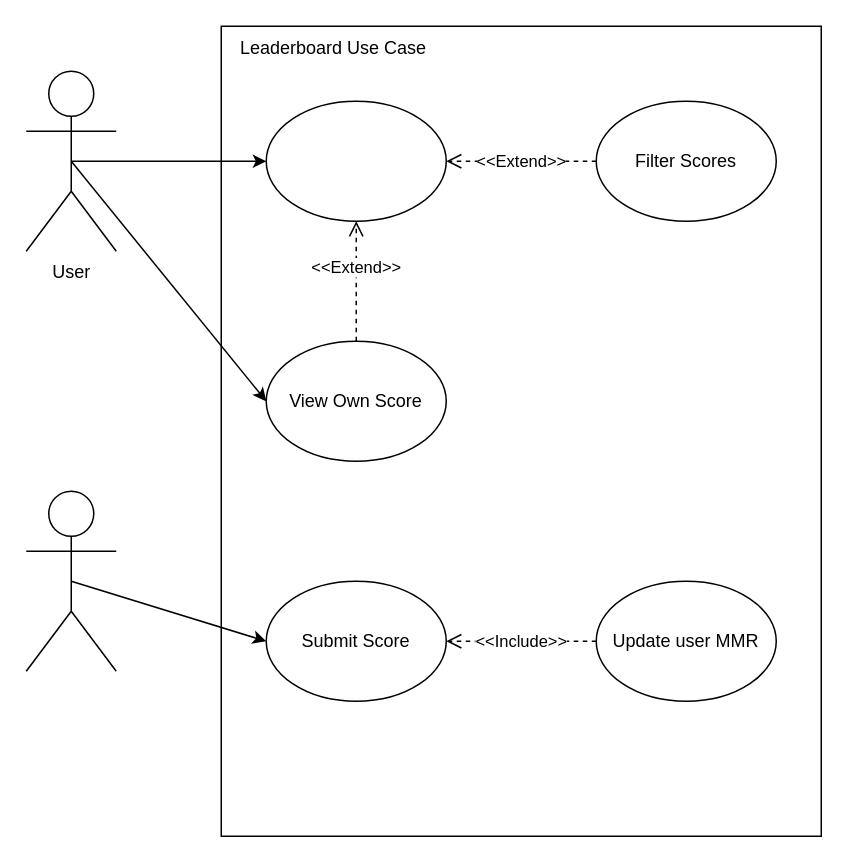
Some shapes in this 848 by 863 pixel diagram are drawn without their labels. Each missing label, with the box of its shape:
System: (25, 490, 116, 671)
View Leaderboard: (265, 100, 446, 221)
